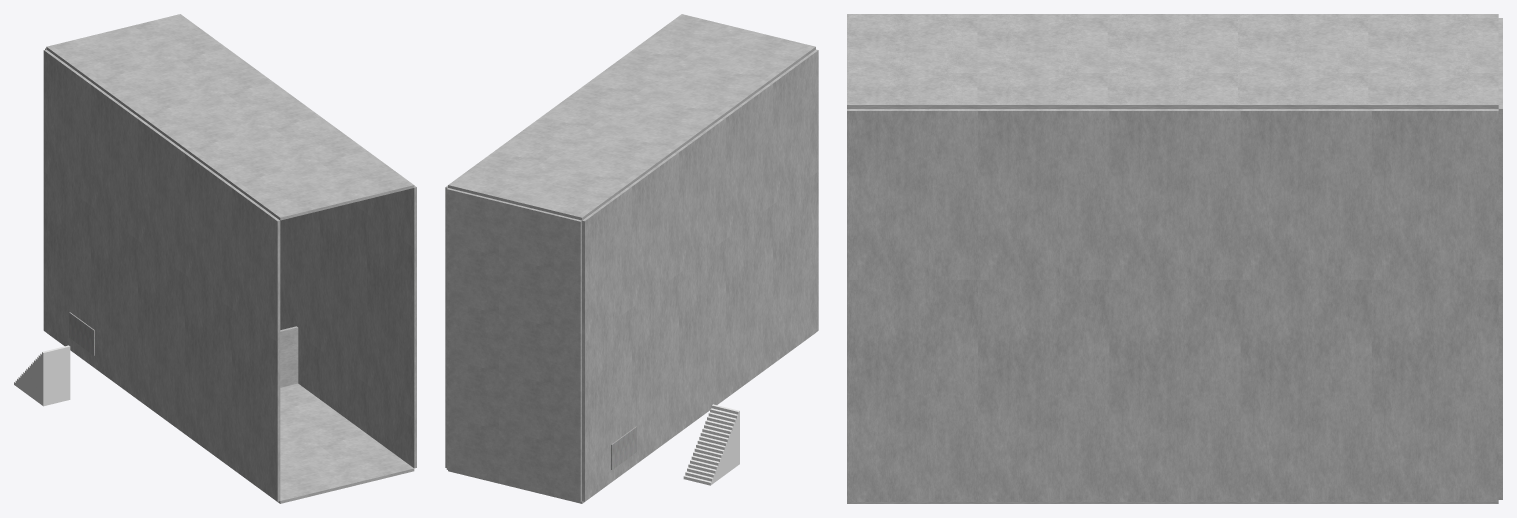
File: tutorial.gltf
The picture shows the model from 3 angles, left to right: view 1: azimuth 30°, elevation 25°; view 2: azimuth 150°, elevation 25°; view 3: azimuth 270°, elevation 25°; orthographic projection. The views are drawn at different scales.
Visible parts, largest first — view 1: Wall_Right_01, Floor.001, Wall_Left_01, Floor, 立方体.005, Wall_Center_01, Screen_01; view 2: Wall_Right_01, Wall_back, Floor.001, Screen_01, Wall_Left_01; view 3: Wall_Left_01, Floor.001, Wall_back, Floor.
Part boxes in pixels (<box>): Wall_Right_01: <box>43,49,280,501</box>; Floor.001: <box>46,14,414,220</box>; Wall_Left_01: <box>280,185,416,468</box>; Floor: <box>47,333,414,503</box>; 立方体.005: <box>42,345,70,406</box>; Wall_Center_01: <box>280,326,298,387</box>; Screen_01: <box>69,312,94,355</box>; Wall_Right_01: <box>582,49,818,501</box>; Wall_back: <box>446,188,581,502</box>; Floor.001: <box>448,14,815,220</box>; Screen_01: <box>611,426,636,469</box>; Wall_Left_01: <box>445,185,447,467</box>; Wall_Left_01: <box>847,109,1498,501</box>; Floor.001: <box>847,14,1498,108</box>; Wall_back: <box>1498,18,1502,499</box>; Floor: <box>847,502,1498,503</box>.
Size of the model in its own units: 16.2 by 20.4 by 30.4.
Materials: 5 (4 with a texture image).
